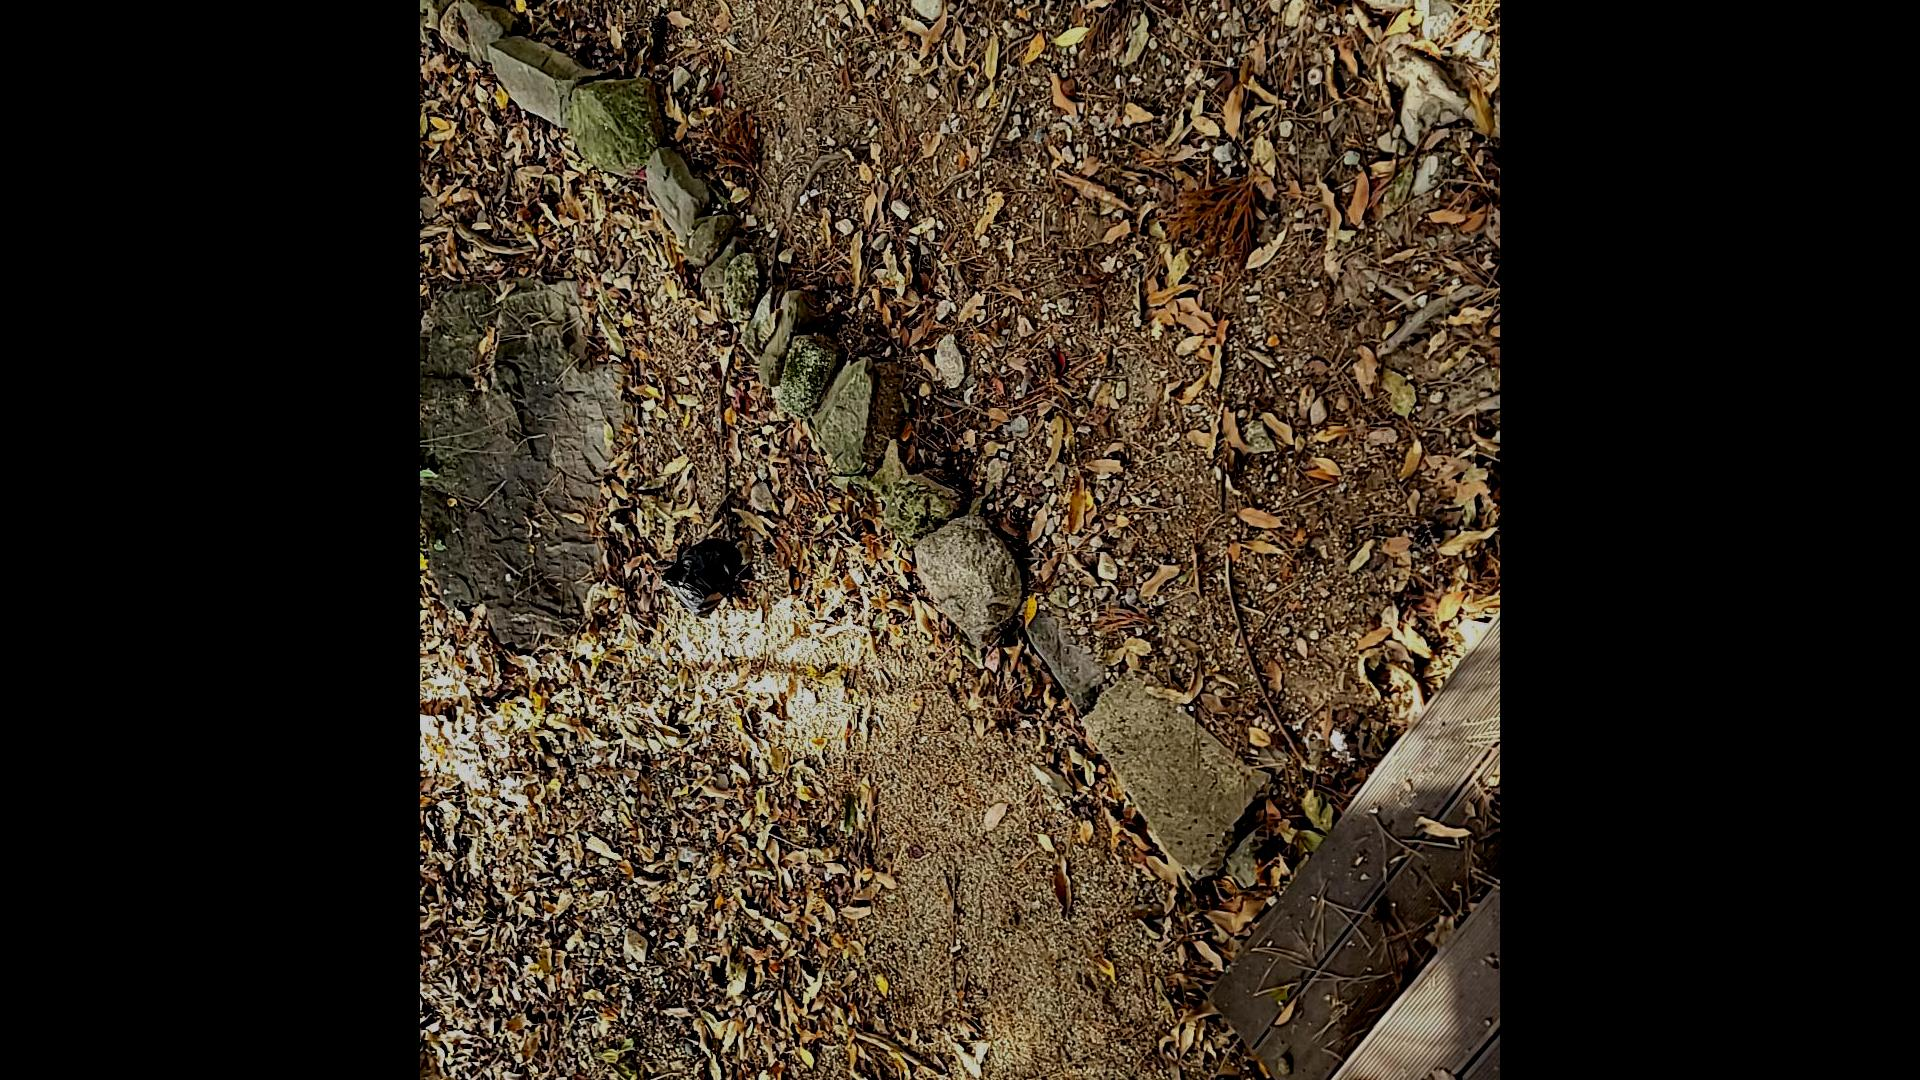black_bag: (654, 521, 746, 615)
